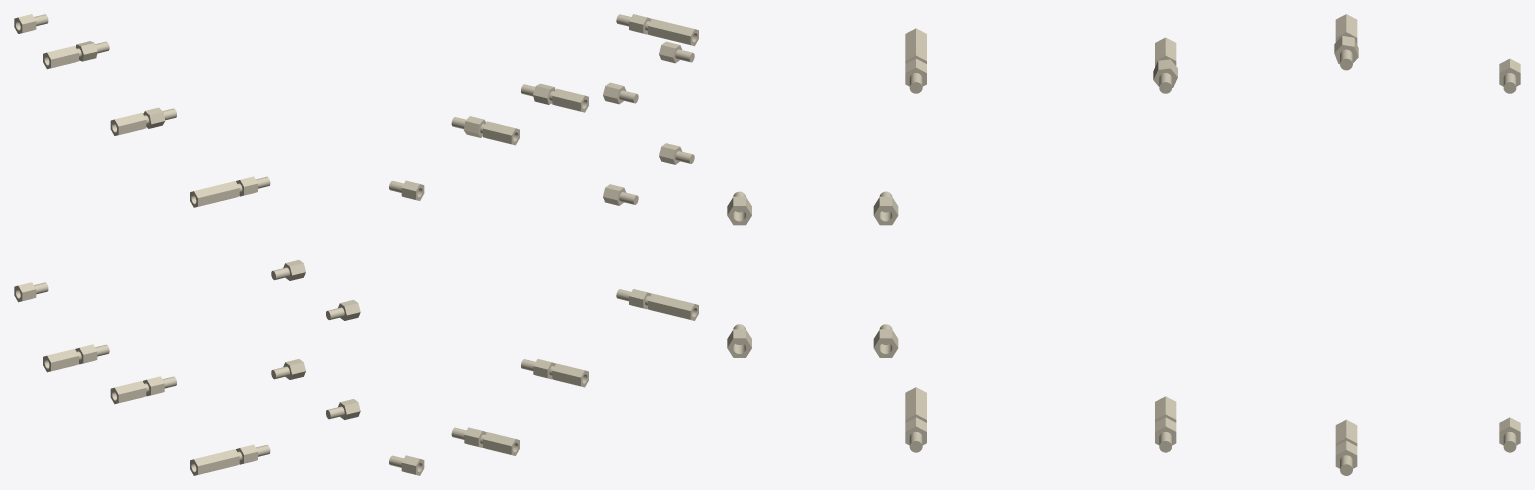
Rendered from torso_link_mat_05.obj.
3 renders of one model, left to right at view 1: azimuth 30°, elevation 25°; view 2: azimuth 150°, elevation 25°; view 3: azimuth 270°, elevation 25°, orthographic. The views are drawn at different scales.
Bounding box in the file's own units: 0.0346 × 0.1098 × 0.1844.
